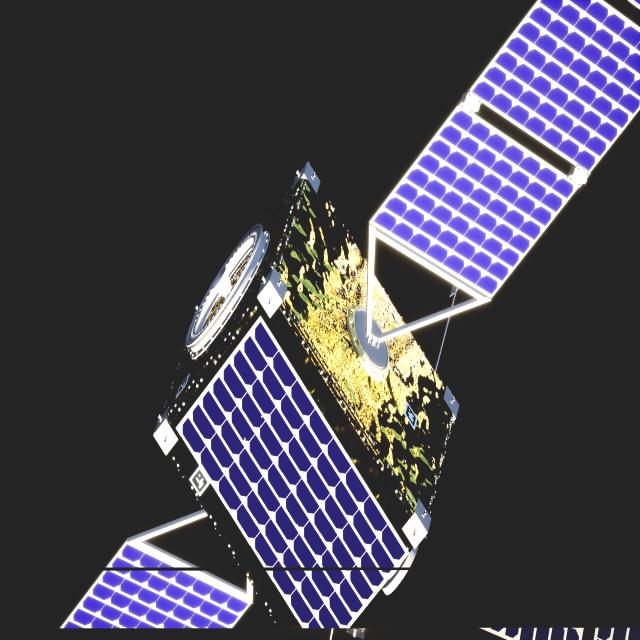medium_debris: (63, 0, 640, 635)
